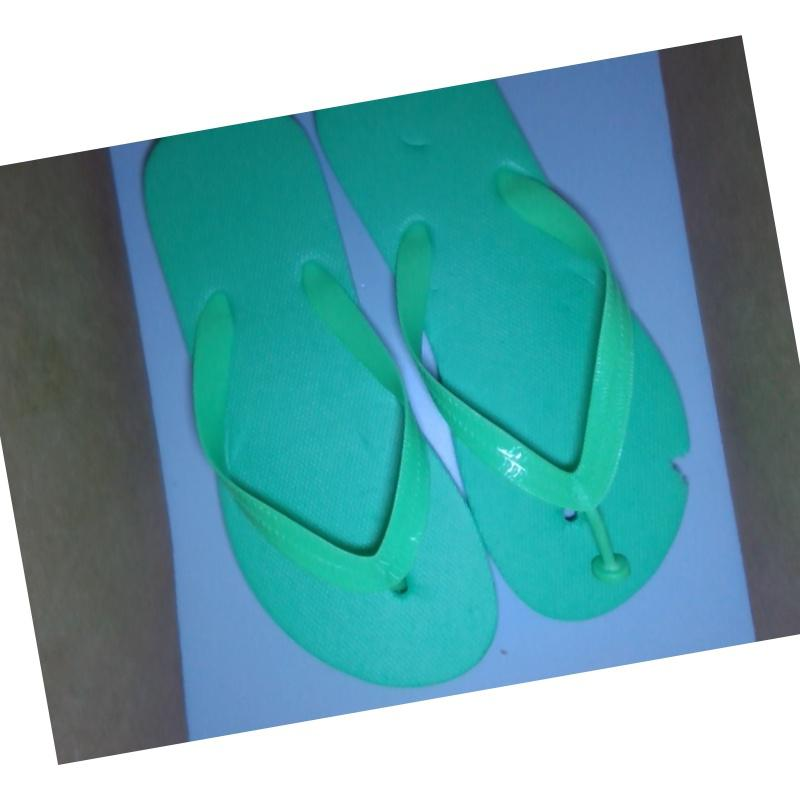chipped: (655, 433, 711, 520)
detached: (578, 543, 643, 595)
